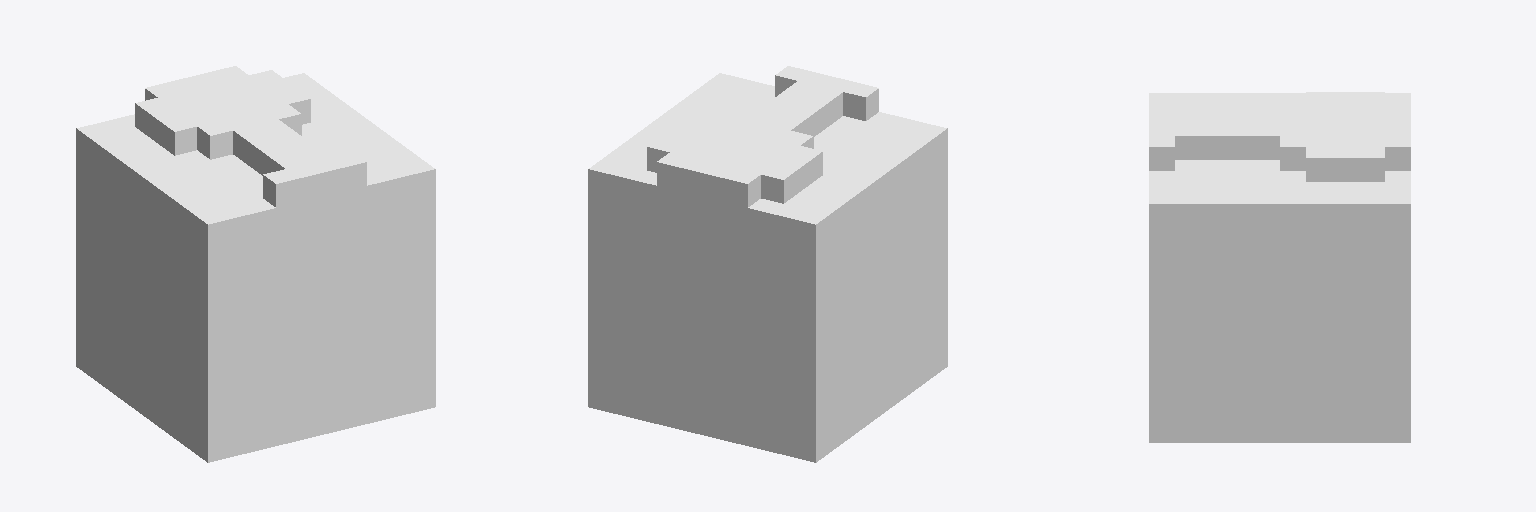
The model's file is FlowerMob.obj.
3 renders of one model, left to right at view 1: azimuth 30°, elevation 25°; view 2: azimuth 150°, elevation 25°; view 3: azimuth 270°, elevation 25°, orthographic.
Visible parts, largest first — view 1: object 1; view 2: object 1; view 3: object 1.
Boxes of the visible parts, x1,y1,x2,y2 form: object 1: [76, 66, 435, 462]; object 1: [588, 66, 947, 462]; object 1: [1149, 92, 1410, 442].
Size of the model in its own units: 1 by 1.1 by 1.